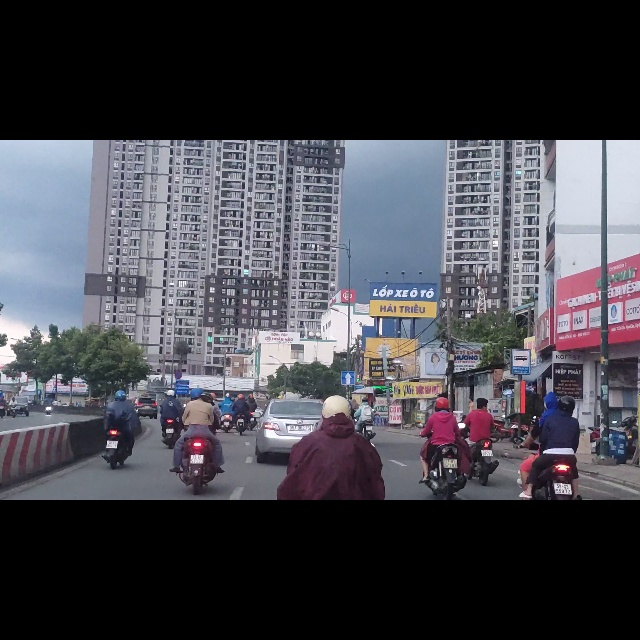bien_cam: (511, 371, 530, 416), (341, 410, 355, 434)
